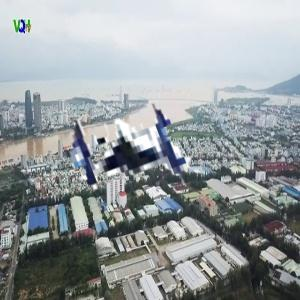drone: (33, 73, 251, 291)
